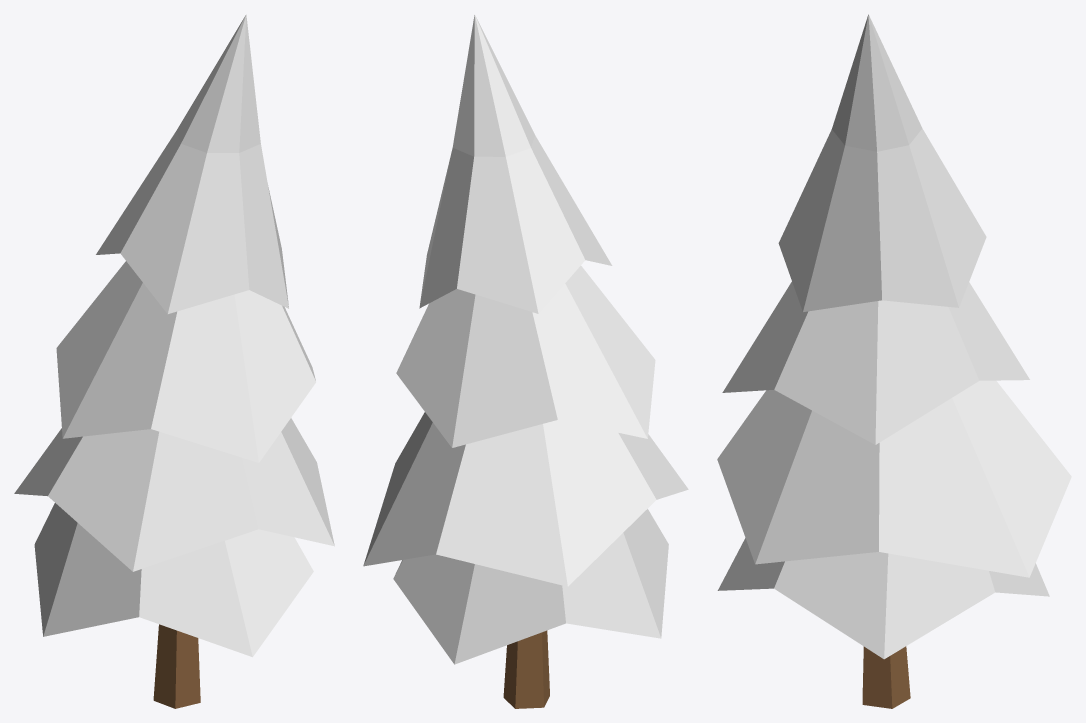
File: Pine_Tree_m_Snow_BT_04.fbx
3 views of the same model, side by side, from view 1: azimuth 30°, elevation 25°; view 2: azimuth 150°, elevation 25°; view 3: azimuth 270°, elevation 25° (orthographic). The views are drawn at different scales.
Visible parts, largest first — view 1: Pine_Tree_m_Snow_BT_04; view 2: Pine_Tree_m_Snow_BT_04; view 3: Pine_Tree_m_Snow_BT_04.
Boxes of the visible parts, box(x1,y1,x2,y2) form: Pine_Tree_m_Snow_BT_04: box(14, 14, 334, 708); Pine_Tree_m_Snow_BT_04: box(363, 14, 688, 708); Pine_Tree_m_Snow_BT_04: box(717, 14, 1071, 708).
Bounding box in the file's own units: 409 × 970 × 435.
